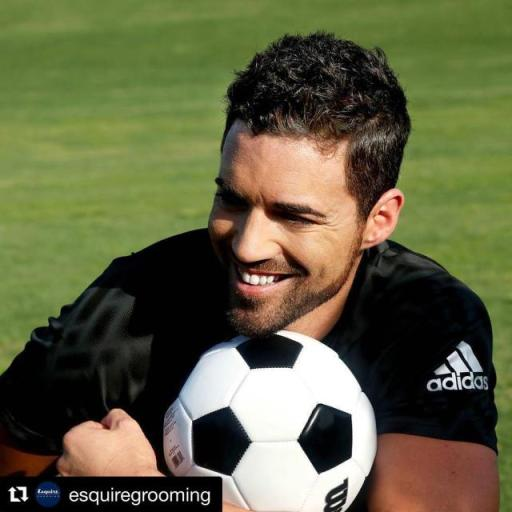Adidas: (424, 339, 490, 395)
